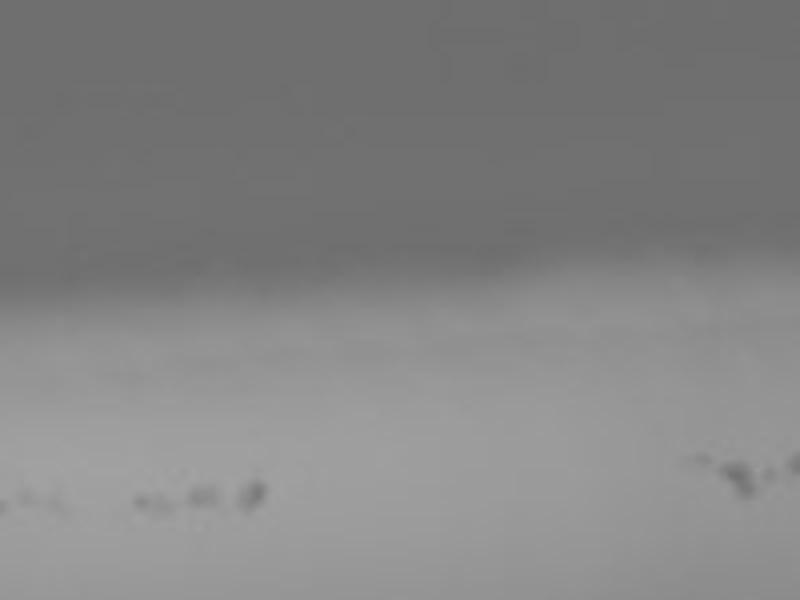defect: (719, 460, 757, 501), (133, 489, 180, 515), (242, 480, 268, 518), (191, 487, 222, 508), (760, 468, 778, 486), (692, 447, 712, 463), (787, 450, 800, 472)
